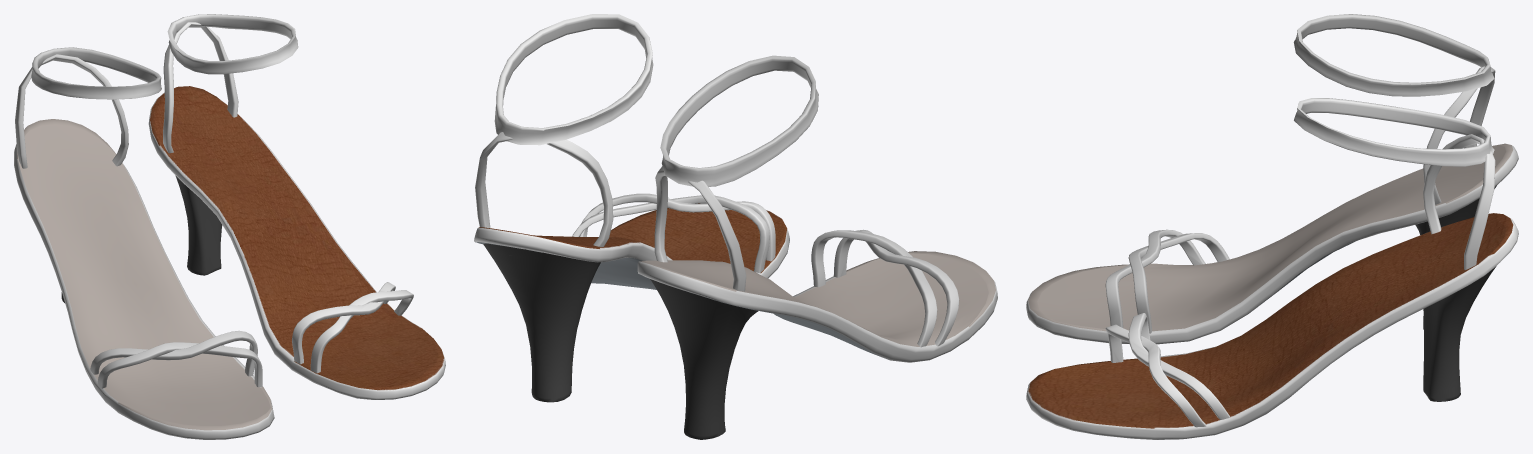
The model's file is women sandel.fbx.
3 views of the same model, side by side, from view 1: azimuth 30°, elevation 25°; view 2: azimuth 150°, elevation 25°; view 3: azimuth 270°, elevation 25° (orthographic). The views are drawn at different scales.
Visible parts, largest first — view 1: women sandel2, women sandel 1; view 2: women sandel2, women sandel 1; view 3: women sandel 1, women sandel2.
Part boxes in pixels (x1=…): women sandel2: x1=14, y1=47, x2=274, y2=439; women sandel 1: x1=148, y1=14, x2=445, y2=399; women sandel2: x1=637, y1=55, x2=997, y2=439; women sandel 1: x1=474, y1=14, x2=789, y2=402; women sandel 1: x1=1026, y1=98, x2=1518, y2=439; women sandel2: x1=1026, y1=14, x2=1518, y2=344.
Size of the model in its own units: 451 by 370 by 564.
